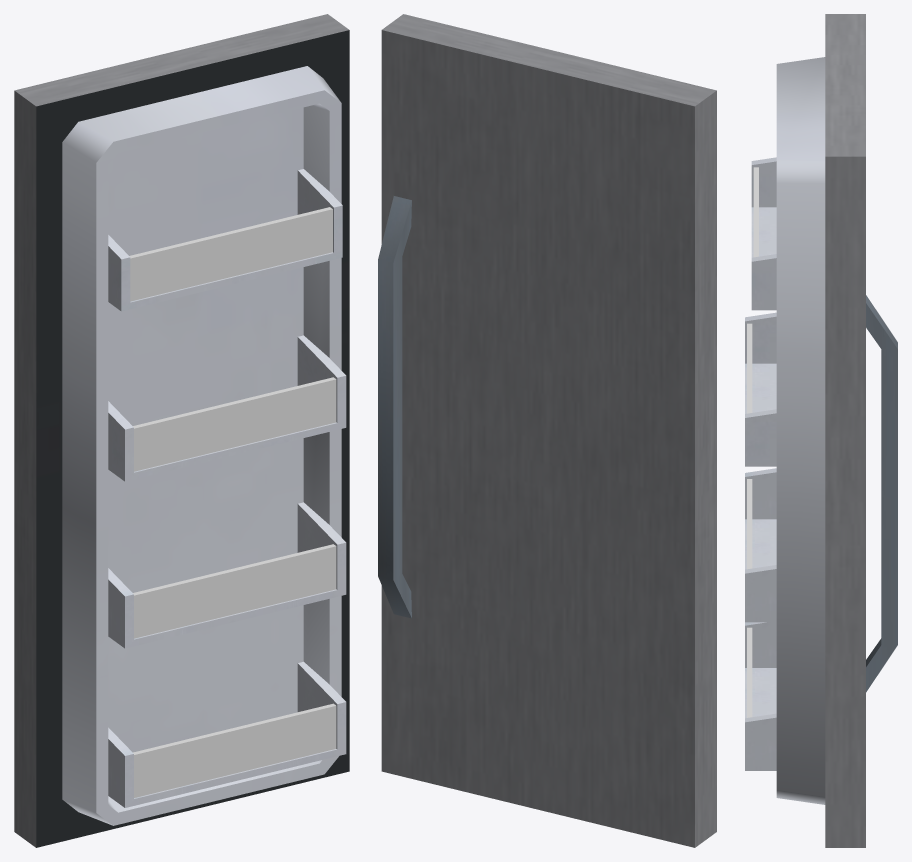
Rendered from Refrigerator_door_05.glb.
The picture shows the model from 3 angles, left to right: view 1: azimuth 30°, elevation 25°; view 2: azimuth 150°, elevation 25°; view 3: azimuth 270°, elevation 25°; orthographic projection. The views are drawn at different scales.
Parts seen in each view (by area): view 1: Refrigerator_door_05; view 2: Refrigerator_door_05; view 3: Refrigerator_door_05.
Part boxes in pixels (x1,y1,x2,y2): Refrigerator_door_05: (14,14,349,847); Refrigerator_door_05: (378,14,716,847); Refrigerator_door_05: (745,14,897,847).
Size of the model in its own units: 0.5517 by 1.25 by 0.2498.
5 materials, 4 textured.
